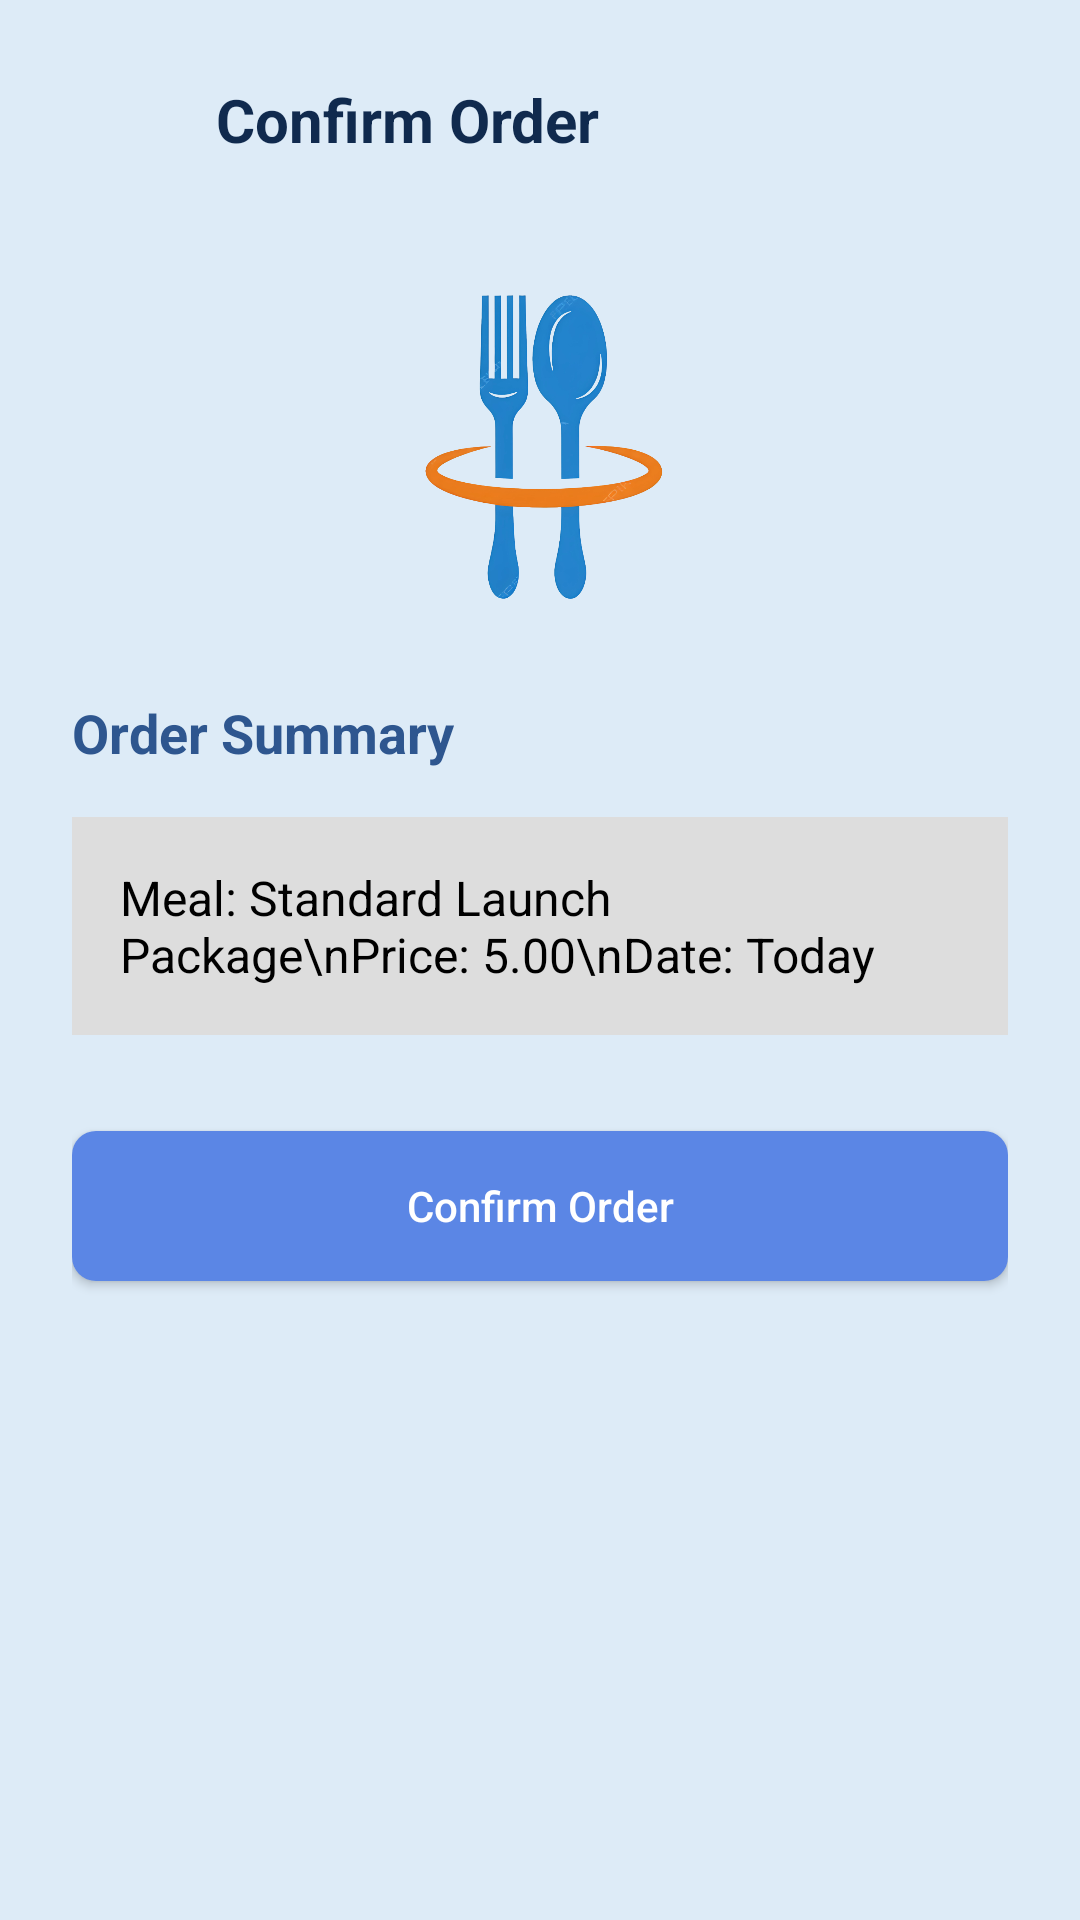

Icons on this 1080*1920 Android screen, each with the point to tap as [x,y]:
meal: [543,447]
